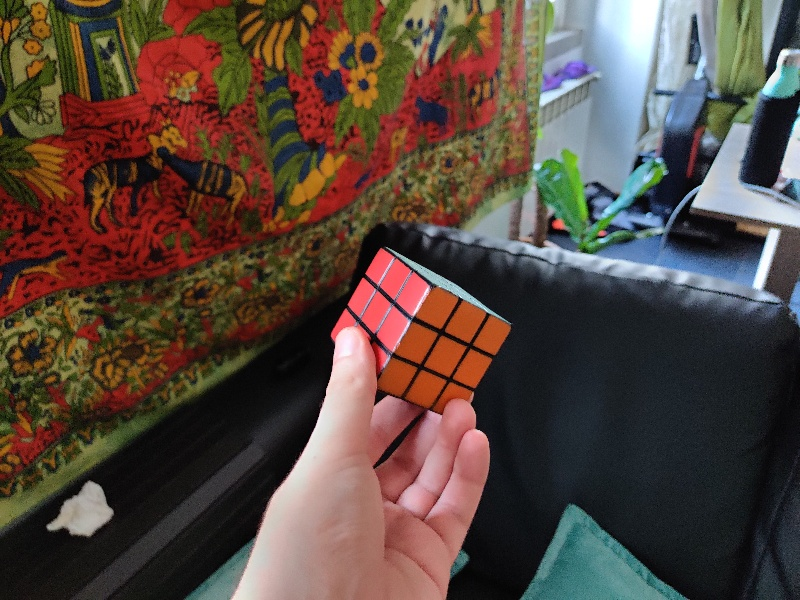rubik: (330, 246, 512, 419)
